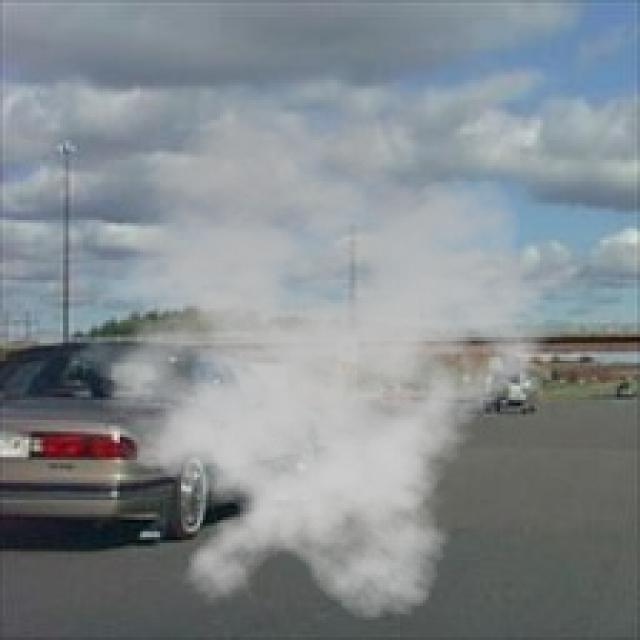smoke: (43, 106, 577, 623)
